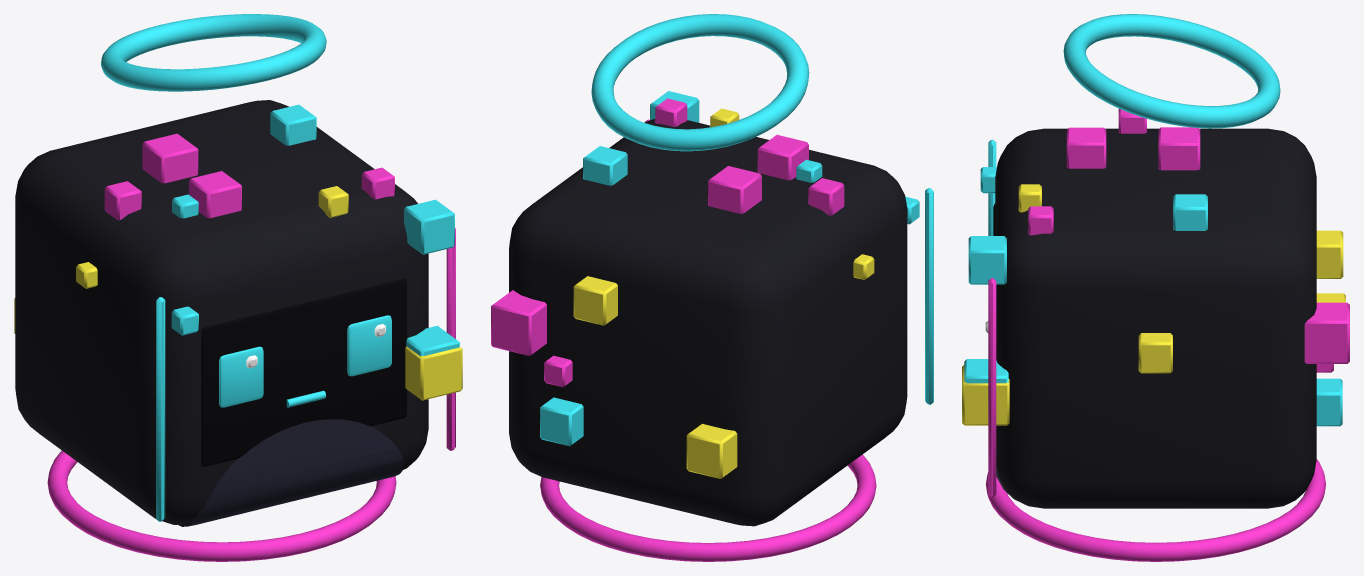
The model's file is Glitch.glb.
The picture shows the model from 3 angles, left to right: view 1: azimuth 30°, elevation 25°; view 2: azimuth 150°, elevation 25°; view 3: azimuth 270°, elevation 25°; orthographic projection. The views are drawn at different scales.
Parts seen in each view (by area): view 1: Glitch; view 2: Glitch; view 3: Glitch.
Part boxes in pixels (x1,y1,x2,y2): Glitch: (14, 14, 462, 561); Glitch: (491, 14, 933, 561); Glitch: (962, 14, 1349, 561).
Size of the model in its own units: 2.24 by 3.1 by 2.42.
1 material, 1 textured.
